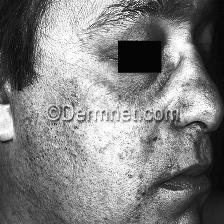Benign Marking or Mole: (43, 126, 156, 185), (52, 72, 184, 103)
